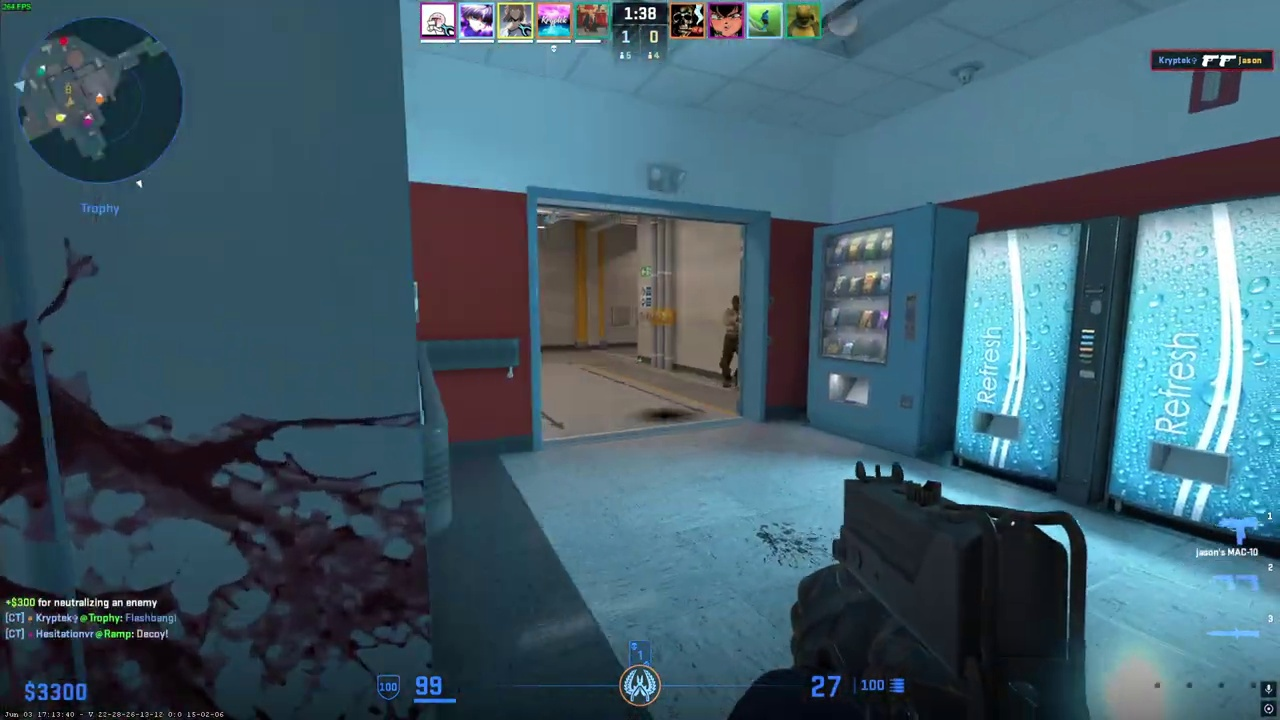Terrorist: (719, 295, 744, 387)
